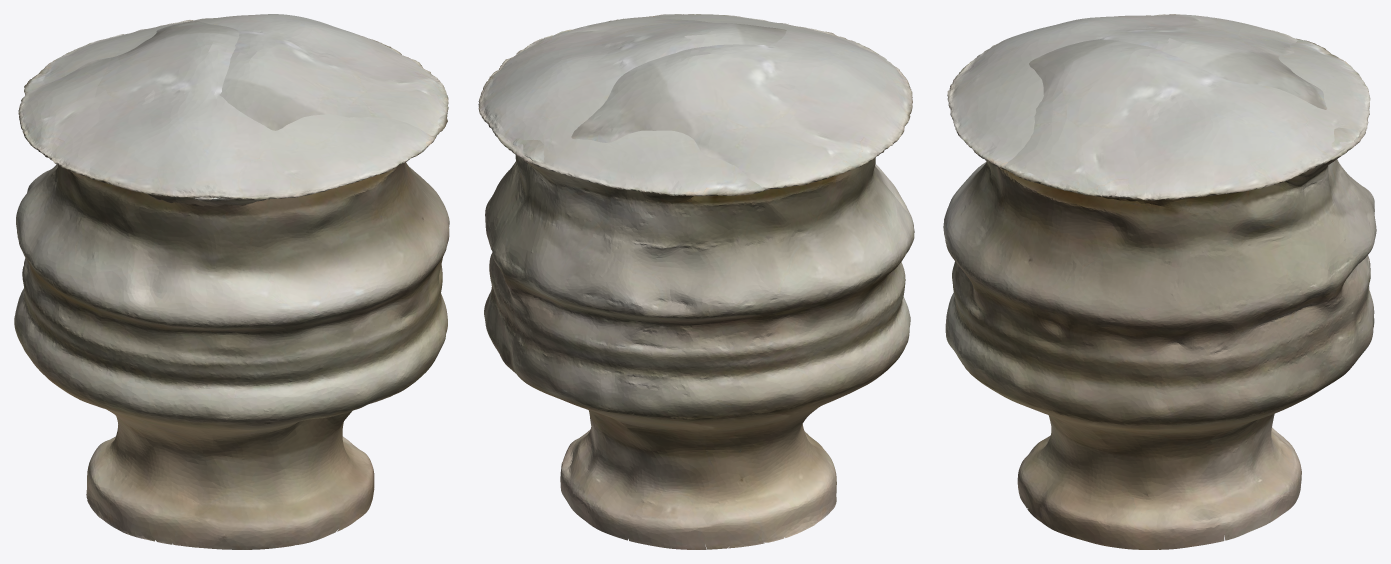
Rendered from Trump-2048.glb.
3 renders of one model, left to right at view 1: azimuth 30°, elevation 25°; view 2: azimuth 150°, elevation 25°; view 3: azimuth 270°, elevation 25°, orthographic.
Visible parts, largest first — view 1: Mesh_0.002; view 2: Mesh_0.002; view 3: Mesh_0.002.
Boxes of the visible parts, <box> form: Mesh_0.002: <box>14,14,449,549</box>; Mesh_0.002: <box>478,14,914,549</box>; Mesh_0.002: <box>943,14,1376,549</box>.
Bounding box in the file's own units: 0.2285 × 0.2545 × 0.2257.
Materials: 1 (1 with a texture image).
